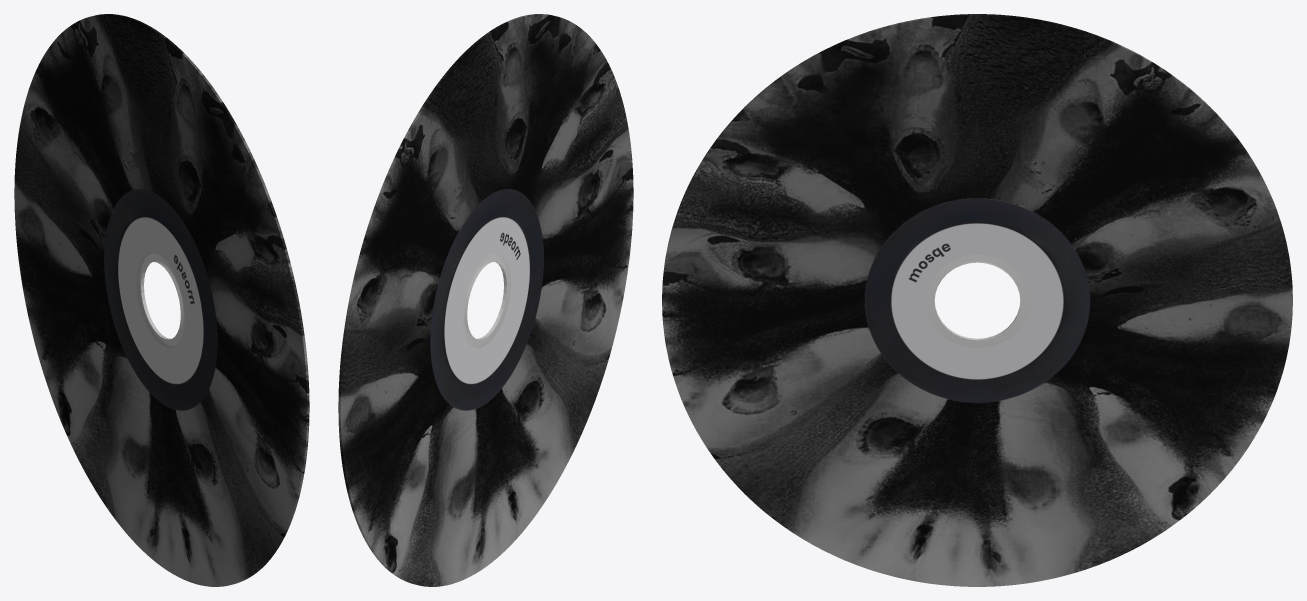
The model's file is CD_Mosque.glb.
3 renders of one model, left to right at view 1: azimuth 30°, elevation 25°; view 2: azimuth 150°, elevation 25°; view 3: azimuth 270°, elevation 25°, orthographic. The views are drawn at different scales.
Parts seen in each view (by area): view 1: CD; view 2: CD; view 3: CD.
Boxes of the visible parts, x1,y1,x2,y2 form: CD: (14, 14, 309, 586); CD: (338, 14, 633, 586); CD: (662, 14, 1292, 586).
Size of the model in its own units: 0.0111 by 1.87 by 1.87.
Materials: 2 (2 with a texture image).
